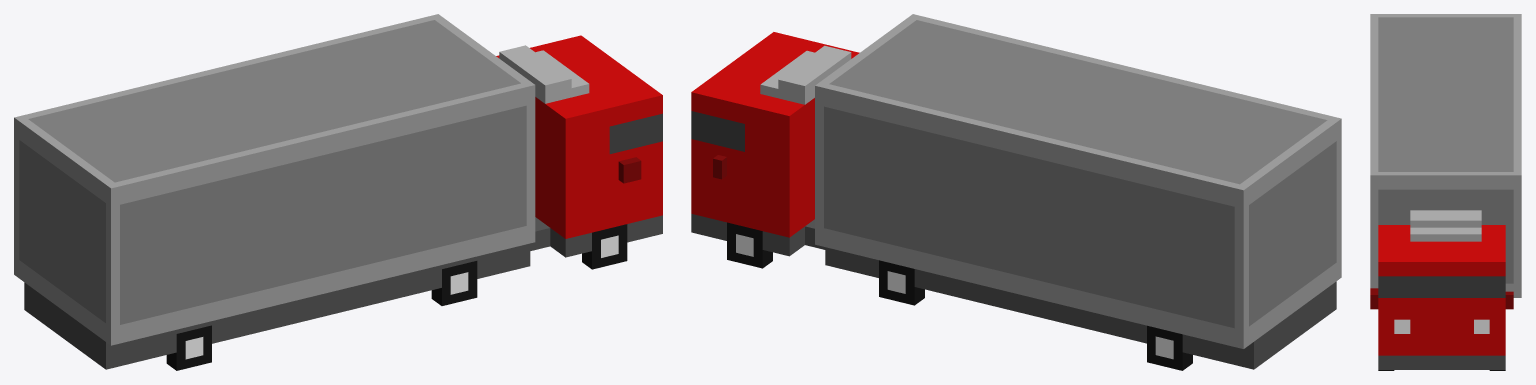
The model's file is truck.obj.
The picture shows the model from 3 angles, left to right: view 1: azimuth 30°, elevation 25°; view 2: azimuth 150°, elevation 25°; view 3: azimuth 270°, elevation 25°; orthographic projection. The views are drawn at different scales.
Bounding box in the file's own units: 6.3 × 2.2 × 1.9.
Materials: 1 (1 with a texture image).
